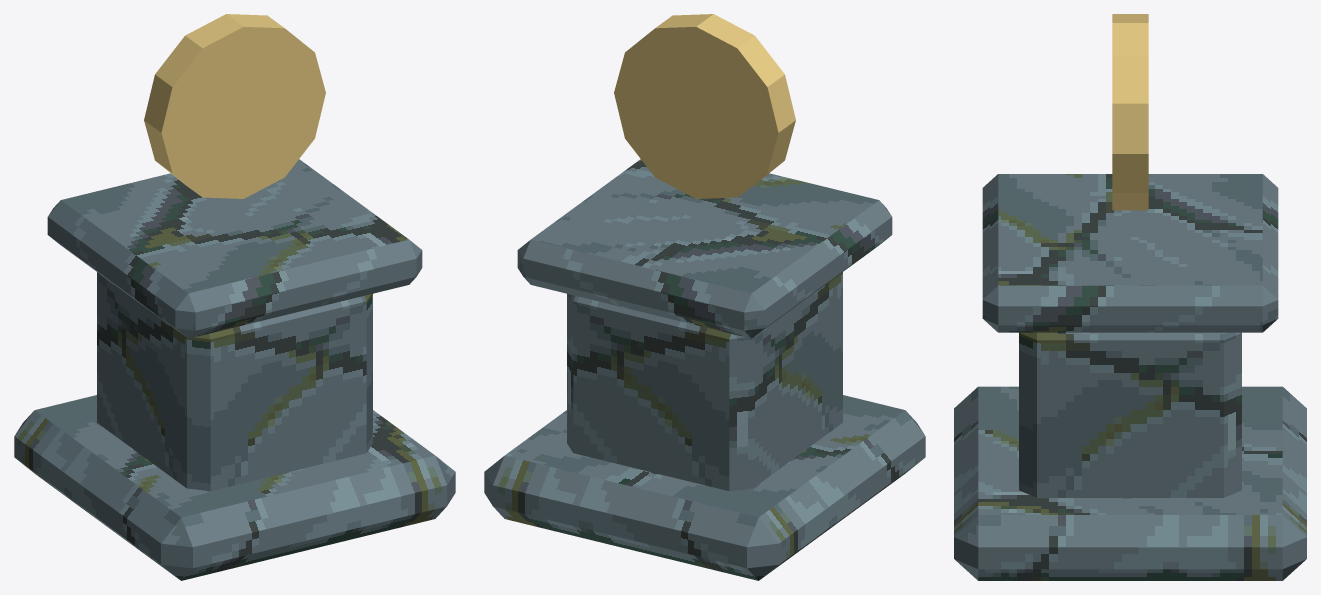
Rendered from pilar_galeao.glb.
3 views of the same model, side by side, from view 1: azimuth 30°, elevation 25°; view 2: azimuth 150°, elevation 25°; view 3: azimuth 270°, elevation 25° (orthographic). The views are drawn at different scales.
Parts seen in each view (by area): view 1: bosque_pilar_galeao; view 2: bosque_pilar_galeao; view 3: bosque_pilar_galeao.
Part boxes in pixels (x1=…): bosque_pilar_galeao: x1=14, y1=14, x2=455, y2=580; bosque_pilar_galeao: x1=484, y1=14, x2=925, y2=580; bosque_pilar_galeao: x1=954, y1=14, x2=1306, y2=580.
Size of the model in its own units: 0.68 by 1.05 by 0.68.
Materials: 2 (1 with a texture image).
